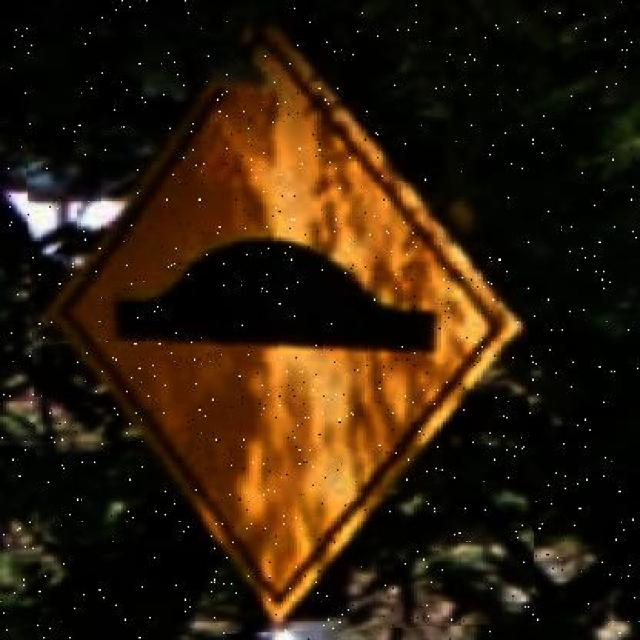Polisi Tidur: (25, 0, 529, 634)
